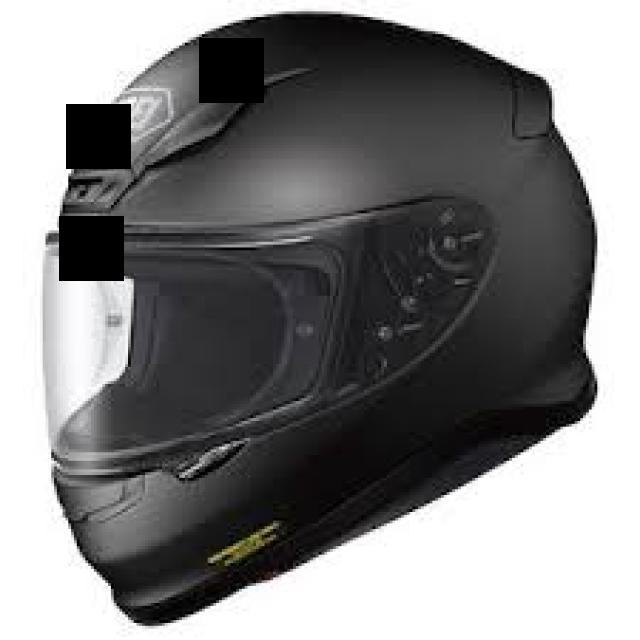Helmet: (45, 15, 594, 622)
